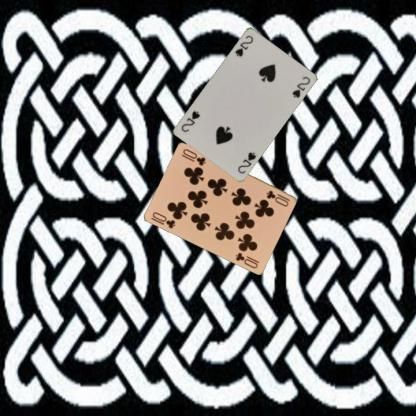10c: (150, 209, 177, 230), (264, 188, 291, 208)
2s: (232, 32, 254, 58), (235, 149, 257, 175)
